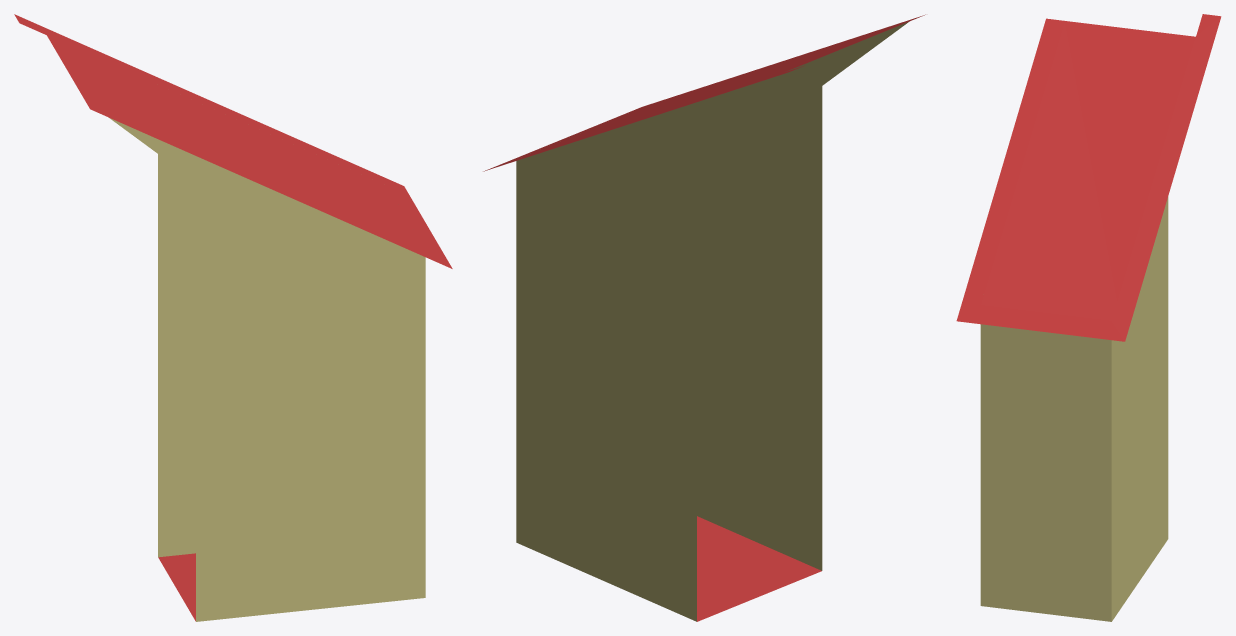
3 renders of one model, left to right at view 1: azimuth 30°, elevation 25°; view 2: azimuth 150°, elevation 25°; view 3: azimuth 270°, elevation 25°, orthographic. The views are drawn at different scales.
Bounding box in the file's own units: 9.19 × 6.77 × 13.39.
